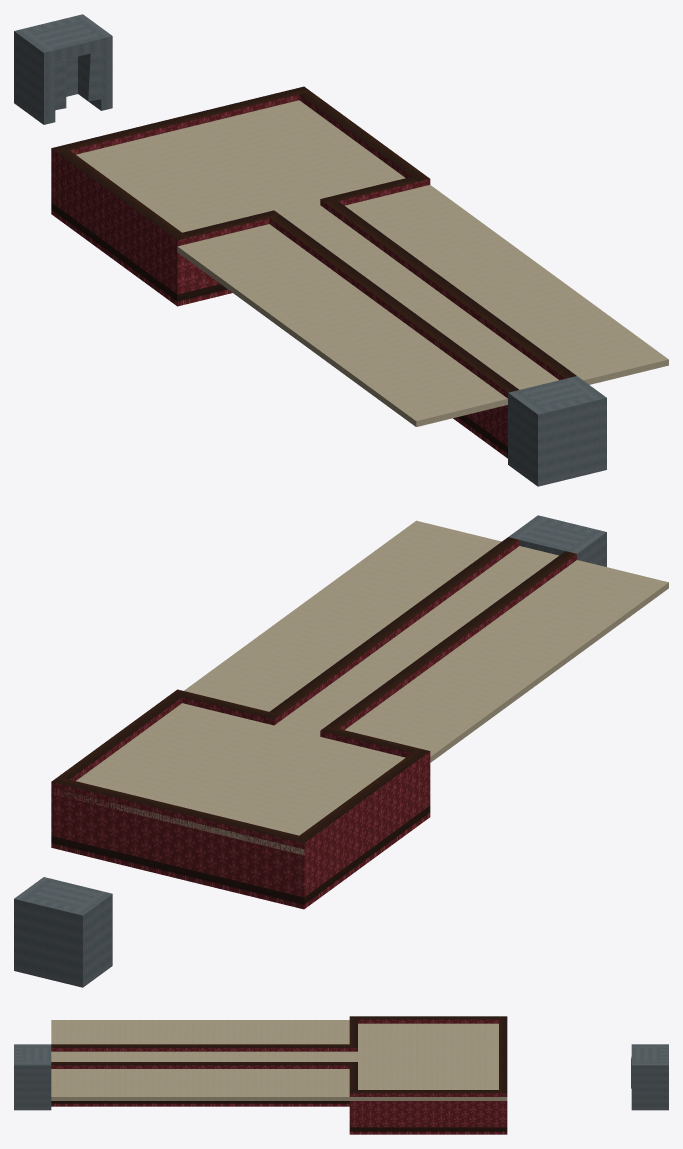
Rendered from boss.fbx.
3 renders of one model, top to bottom at view 1: azimuth 30°, elevation 25°; view 2: azimuth 150°, elevation 25°; view 3: azimuth 270°, elevation 25°, orthographic. The views are drawn at different scales.
Visible parts, largest first — view 1: Cube.029, Cube.001, Cube.005, Cube.030, Cube.031, Cube.011, Cube.015, Cube.002, Cube.012, Cube.007, Cube.013, Cube.016 (+4 smaller); view 2: Cube.029, Cube.011, Cube.001, Cube.014, Cube.031, Cube.030, Cube.002, Cube.015, Cube.004, Cube.003, Cube.012, Cube.013 (+2 smaller); view 3: Cube.029, Cube.002, Cube.031, Cube.030, Cube.006, Cube.016, Cube.001, Cube.011, Cube.005, Cube.014, Cube.013, Cube.004 (+2 smaller).
Part boxes in pixels (left/top/right/bottom): Cube.029: left=76, top=100, right=668, bottom=426; Cube.001: left=58, top=150, right=188, bottom=306; Cube.005: left=531, top=393, right=606, bottom=486; Cube.030: left=269, top=215, right=518, bottom=458; Cube.031: left=326, top=201, right=576, bottom=380; Cube.011: left=51, top=86, right=310, bottom=218; Cube.015: left=20, top=33, right=55, bottom=124; Cube.002: left=299, top=91, right=430, bottom=187; Cube.012: left=182, top=210, right=280, bottom=303; Cube.007: left=508, top=390, right=542, bottom=481; Cube.013: left=31, top=21, right=102, bottom=61; Cube.016: left=78, top=19, right=112, bottom=110; Cube.029: left=53, top=520, right=668, bottom=854; Cube.011: left=51, top=777, right=310, bottom=909; Cube.001: left=299, top=748, right=430, bottom=904; Cube.014: left=14, top=894, right=89, bottom=987; Cube.031: left=269, top=537, right=519, bottom=720; Cube.030: left=327, top=551, right=576, bottom=729; Cube.002: left=58, top=689, right=188, bottom=780; Cube.015: left=78, top=891, right=112, bottom=982; Cube.004: left=519, top=522, right=589, bottom=555; Cube.003: left=182, top=692, right=280, bottom=725; Cube.012: left=320, top=726, right=417, bottom=757; Cube.013: left=31, top=879, right=100, bottom=907; Cube.029: left=51, top=1020, right=507, bottom=1100; Cube.002: left=349, top=1090, right=498, bottom=1134; Cube.031: left=51, top=1062, right=349, bottom=1106; Cube.030: left=51, top=1044, right=349, bottom=1051; Cube.006: left=22, top=1062, right=51, bottom=1110; Cube.016: left=631, top=1062, right=660, bottom=1110; Cube.001: left=349, top=1016, right=498, bottom=1023; Cube.011: left=499, top=1016, right=507, bottom=1134; Cube.005: left=14, top=1044, right=22, bottom=1110; Cube.014: left=660, top=1044, right=668, bottom=1110; Cube.013: left=631, top=1047, right=660, bottom=1062; Cube.004: left=22, top=1047, right=51, bottom=1062.
Size of the model in its own units: 8800 by 2400 by 31600.
5 materials, 5 textured.
